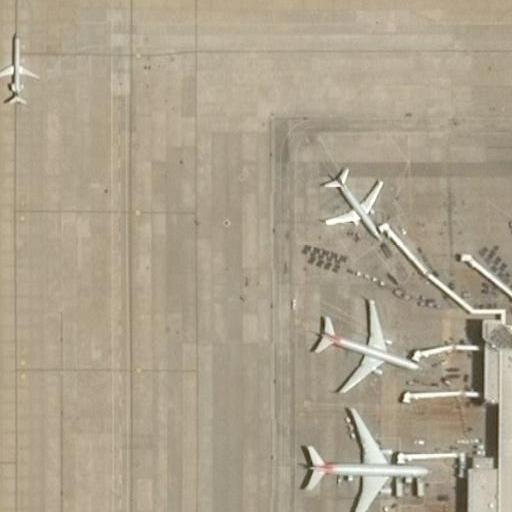Aircraft: (283, 398, 433, 512), (303, 294, 420, 394), (302, 154, 394, 244), (1, 23, 40, 110)
